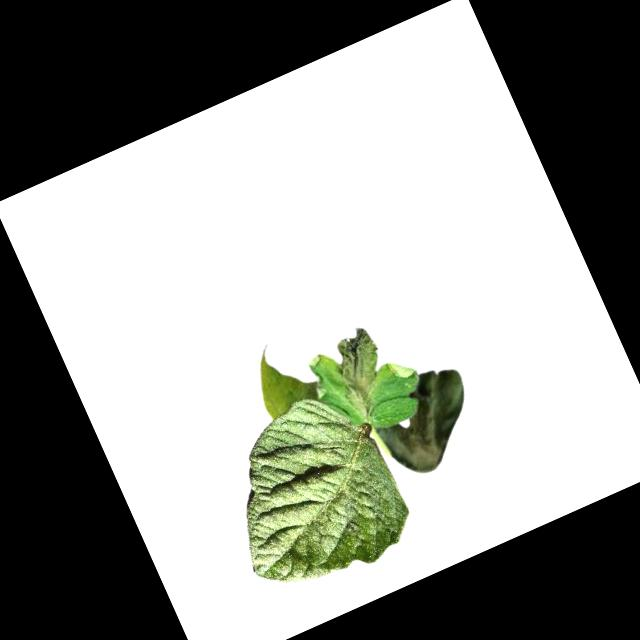Late_blight: (361, 358, 492, 486), (316, 322, 404, 427), (239, 330, 325, 420)
healthy: (194, 377, 424, 610)
